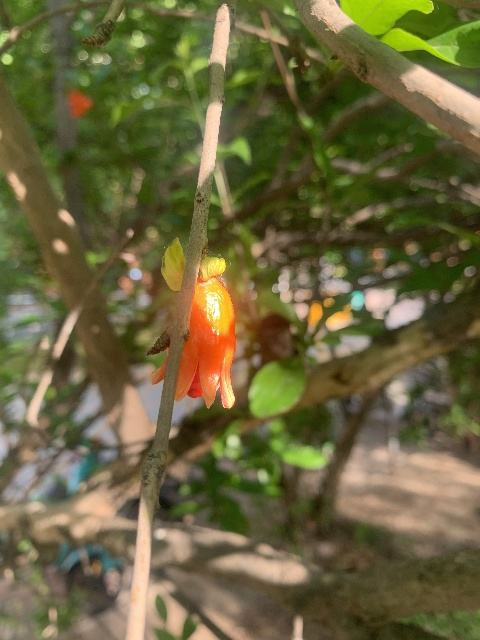flower: (151, 273, 237, 409)
